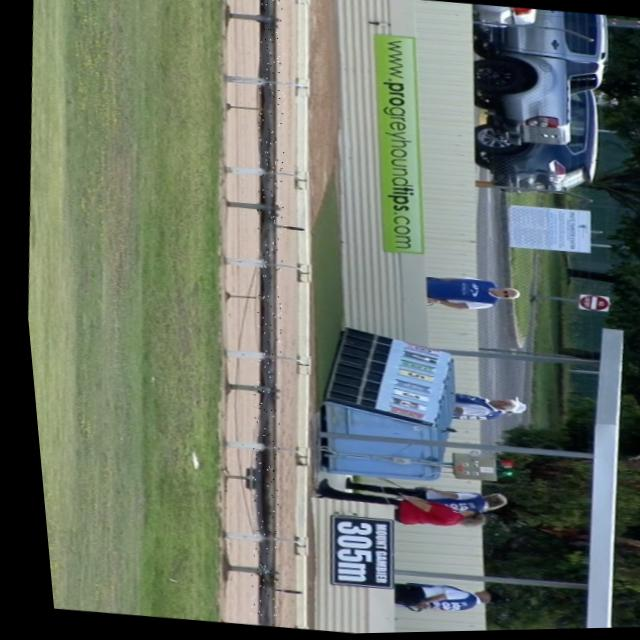rail: (246, 0, 275, 627)
